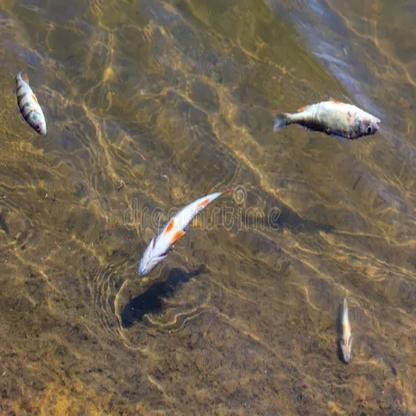deceased fish: (137, 185, 237, 275), (268, 97, 382, 138), (16, 69, 47, 136), (337, 288, 356, 363)
